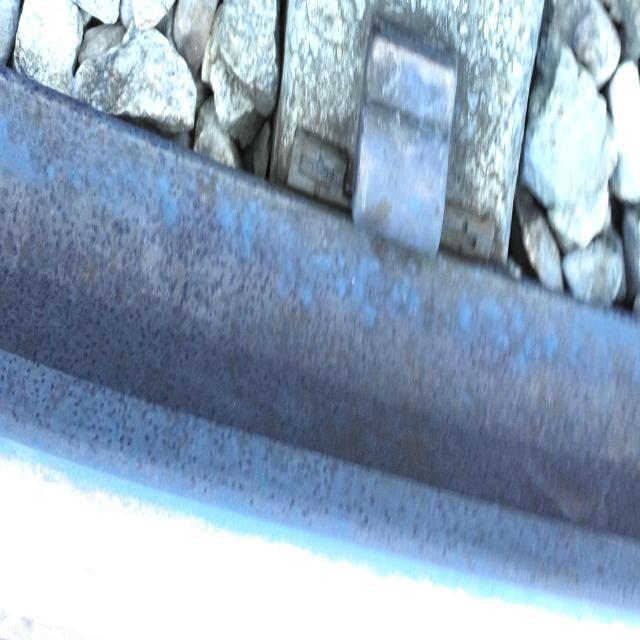Missing Fastener: (335, 21, 471, 344)
